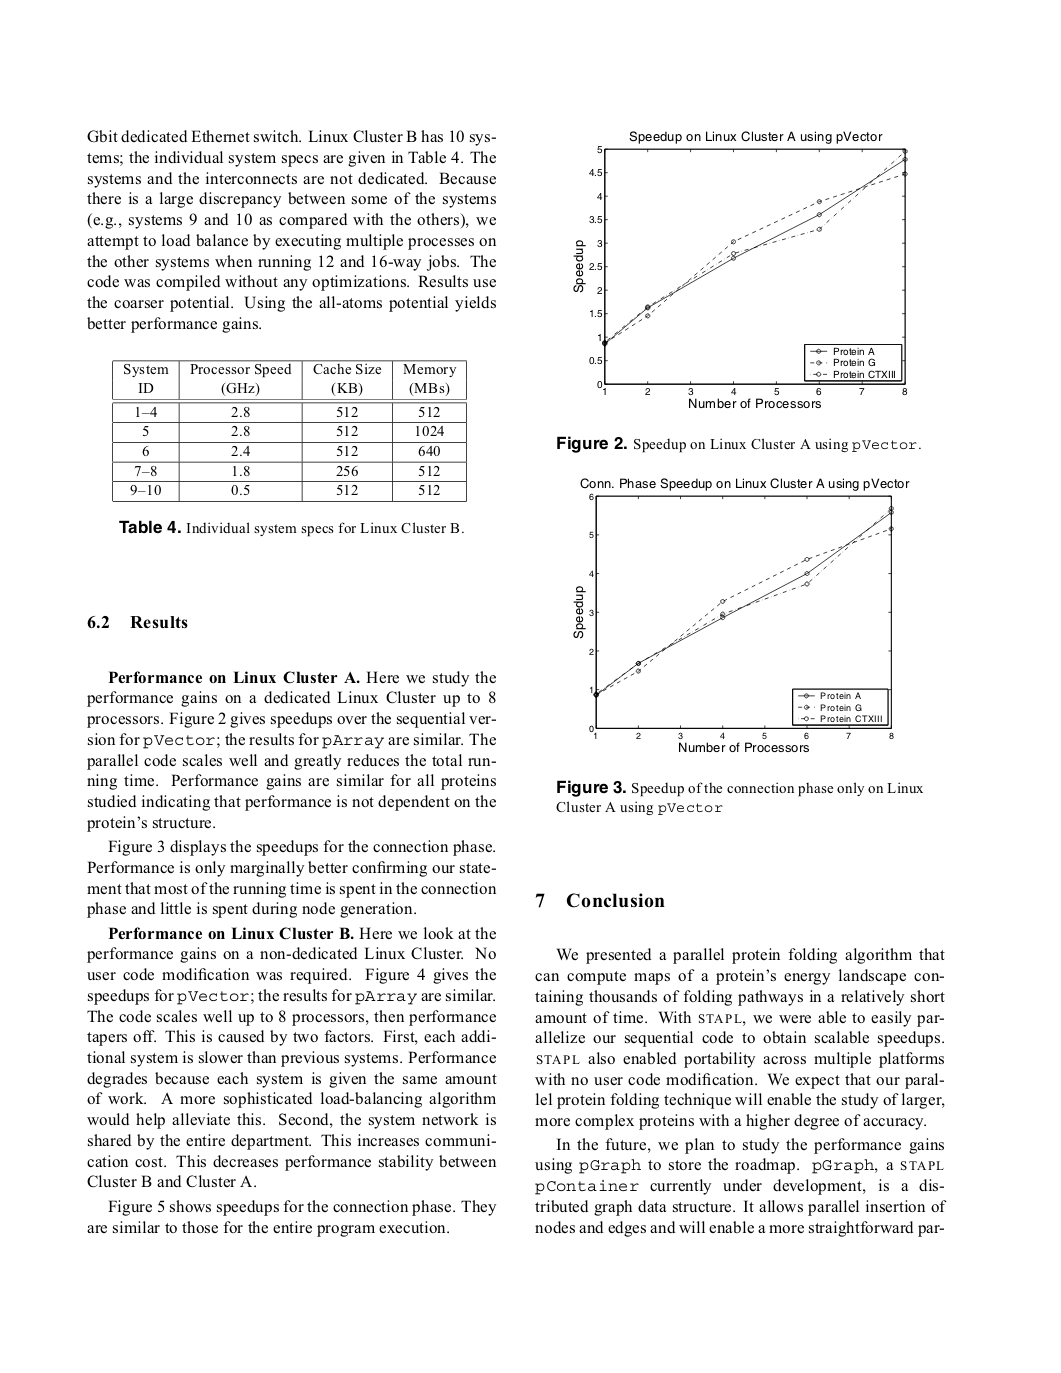Table: (111, 359, 466, 502)
figure: (573, 130, 907, 409), (573, 477, 909, 753)
